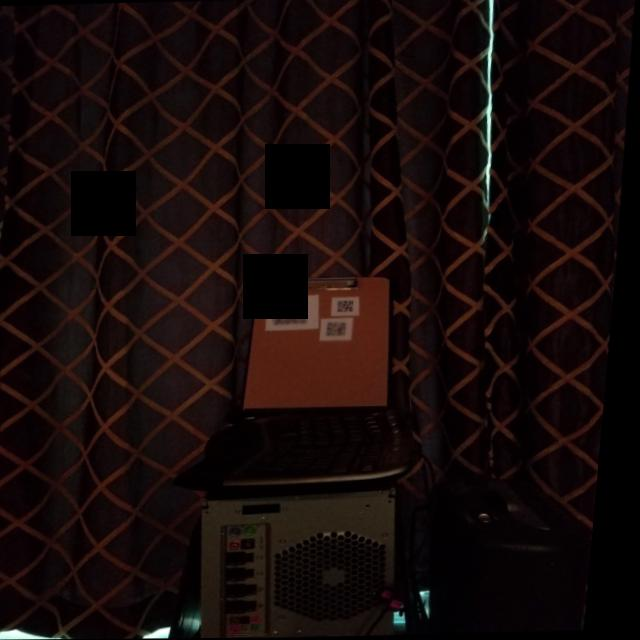QR_CODE: (271, 296, 319, 330), (326, 320, 365, 343), (337, 295, 366, 315)
